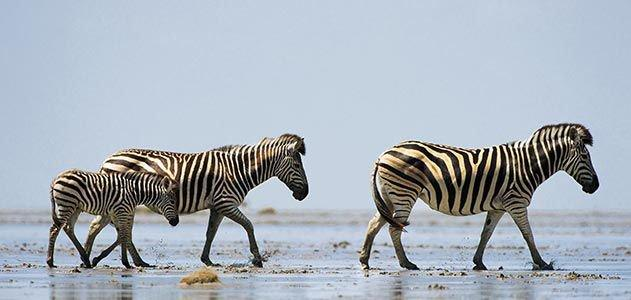Zebra: (359, 123, 597, 269), (101, 133, 308, 266), (48, 169, 178, 266)
